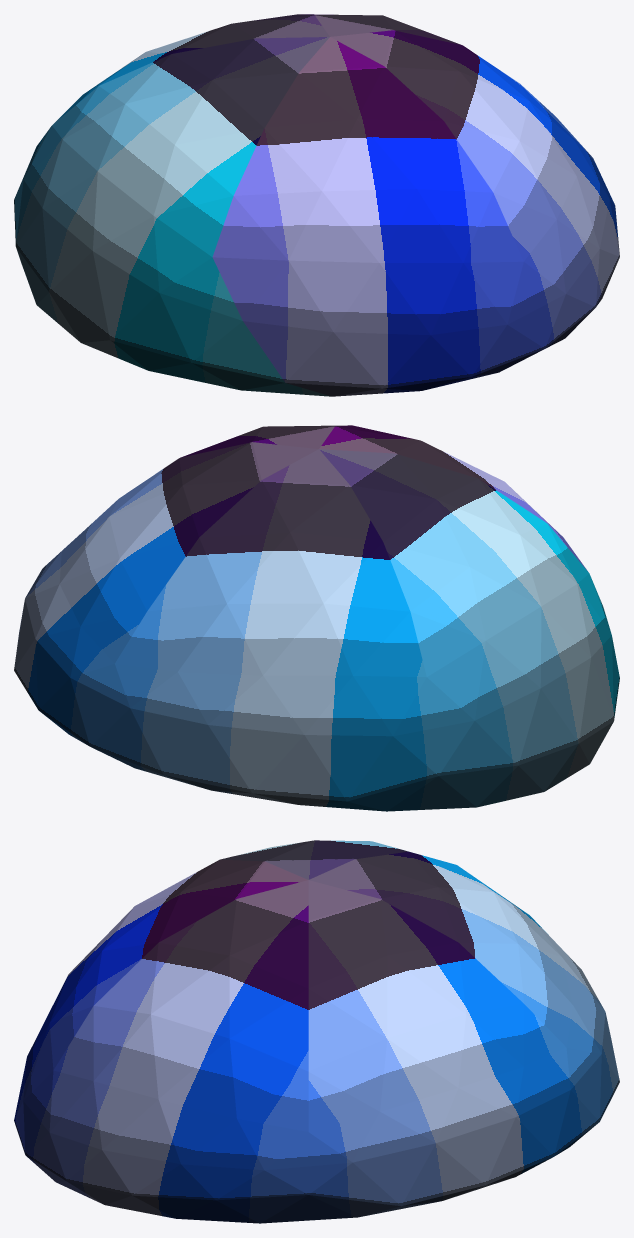
File: Mineral1.glb
The picture shows the model from 3 angles, top to bottom: view 1: azimuth 30°, elevation 25°; view 2: azimuth 150°, elevation 25°; view 3: azimuth 270°, elevation 25°; orthographic projection. The views are drawn at different scales.
Parts seen in each view (by area): view 1: Icosphere; view 2: Icosphere; view 3: Icosphere.
Part boxes in pixels (x1=…): Icosphere: x1=14, y1=14, x2=619, y2=396; Icosphere: x1=14, y1=425, x2=619, y2=811; Icosphere: x1=14, y1=840, x2=619, y2=1223.
Size of the model in its own units: 2.05 by 0.968 by 2.02.
1 material, 1 textured.
